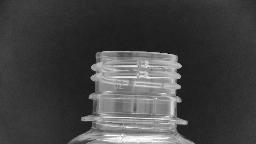No Cap: (77, 47, 191, 130)
